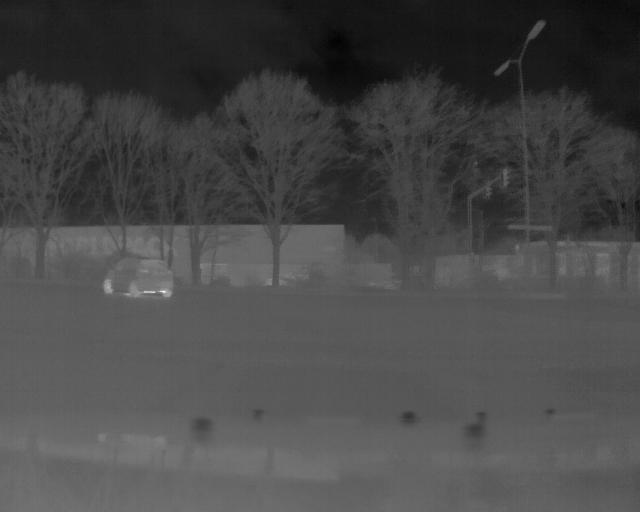car: (103, 256, 175, 302)
